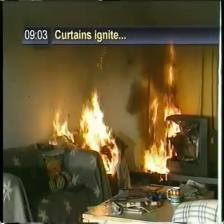fire: (58, 104, 119, 167), (152, 55, 179, 171)
